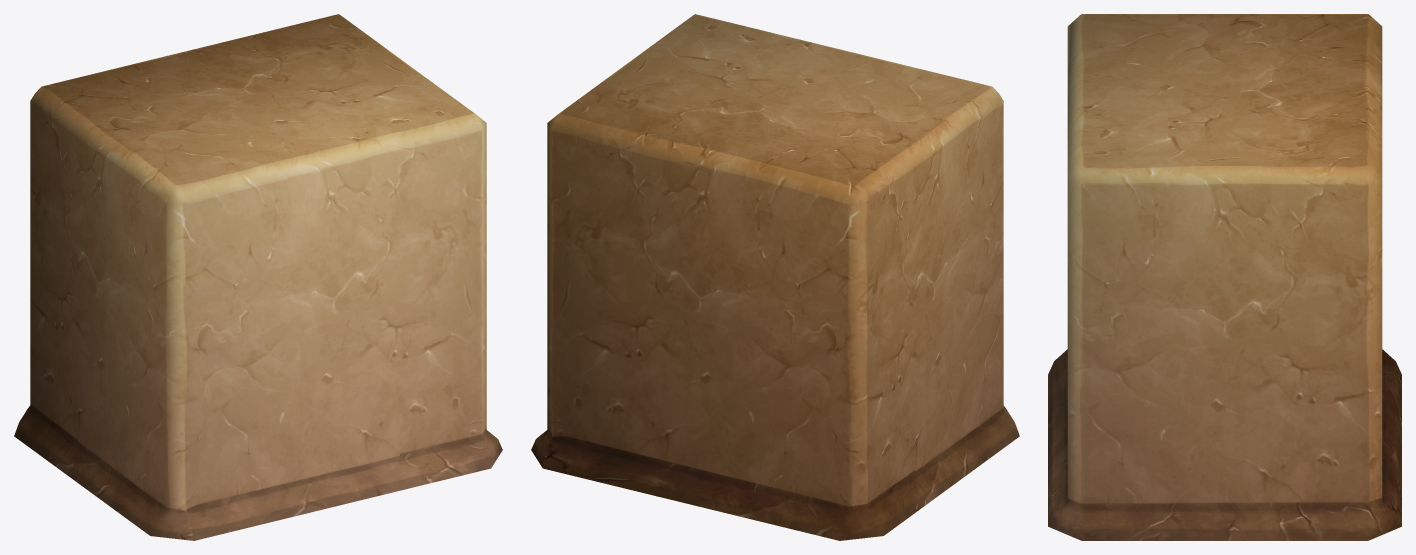
File: DE_House_Mod_Part_08.fbx
The picture shows the model from 3 angles, left to right: view 1: azimuth 30°, elevation 25°; view 2: azimuth 150°, elevation 25°; view 3: azimuth 270°, elevation 25°; orthographic projection. The views are drawn at different scales.
Parts seen in each view (by area): view 1: DE_House_Mod_Part_08; view 2: DE_House_Mod_Part_08; view 3: DE_House_Mod_Part_08.
Boxes of the visible parts, x1,y1,x2,y2 form: DE_House_Mod_Part_08: (14, 14, 502, 540); DE_House_Mod_Part_08: (531, 14, 1019, 540); DE_House_Mod_Part_08: (1048, 14, 1401, 540).
Size of the model in its own units: 3.77 by 3.5 by 3.11.
